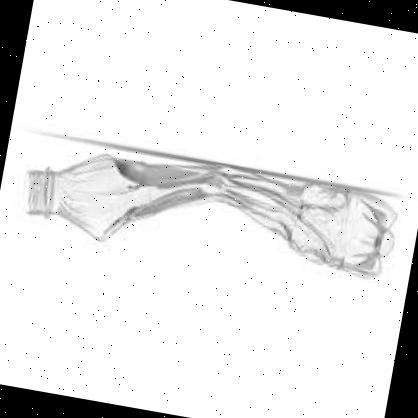bottle: (9, 114, 410, 305)
